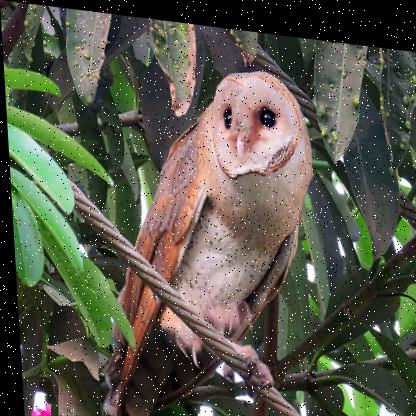Burung: (71, 45, 327, 415)
